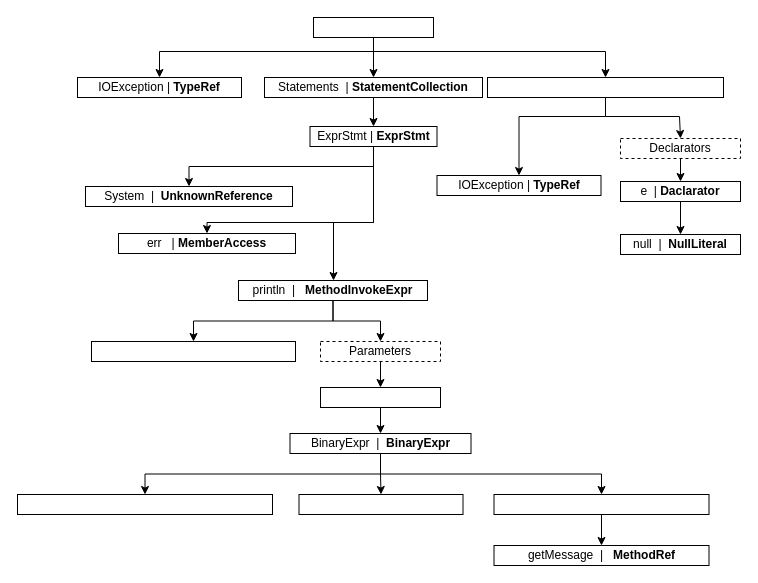
Some shapes in this 758 by 583 pixel diagram are drawn without their labels. The shapes that lost their labels are listed below. From the top down, each one's centre as x and y in pixels, then its label:
point (373, 27): catch | Catch
point (605, 87): VariableDeclStmt | VariableDeclStmt
point (193, 351): println | MethodRef
point (380, 397): Param | Param
point (144, 504): "Caught IOException: " | StringLiteral
point (380, 504): e | UnknownReference
point (601, 504): getMessage | MethodInvokeExpr
